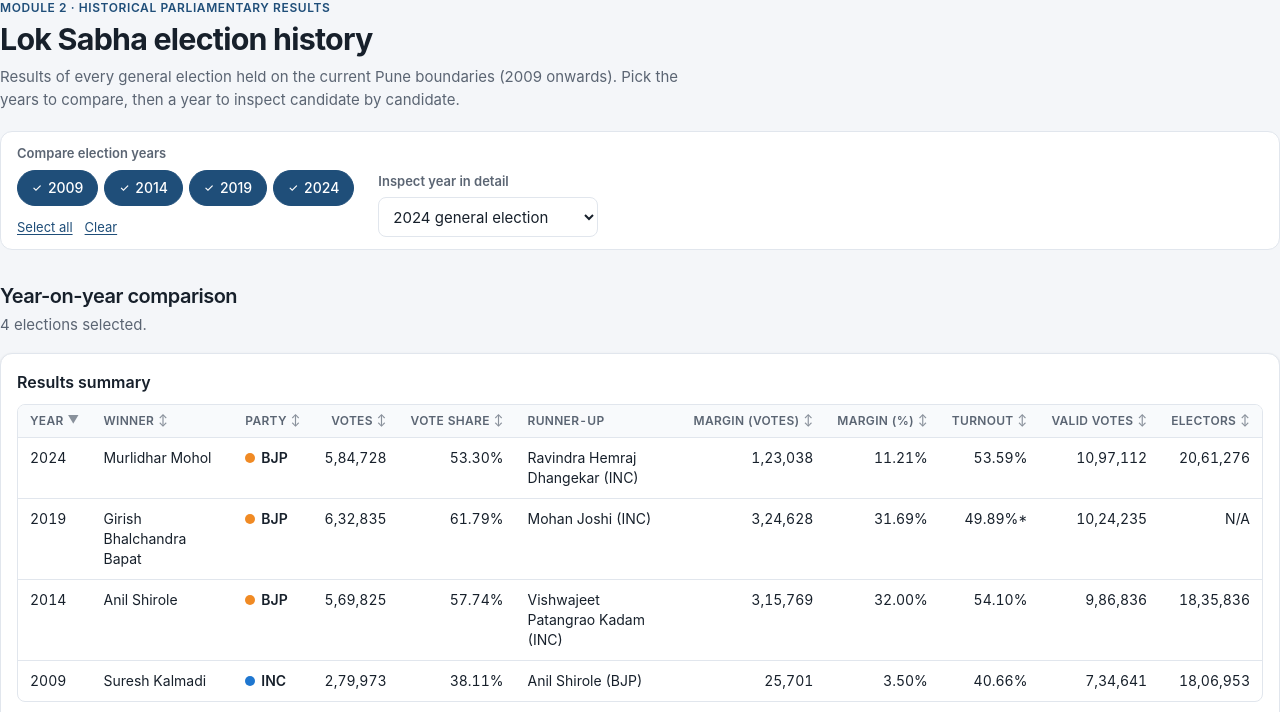
Scenario: Lok Sabha page (real data) › deselecting a year removes it from the comparison table
What coordinates should you click on to do the following:
click the checkbox labelled "2009"
I would click on:
 (58, 188)
Its box is [17,170,98,206].
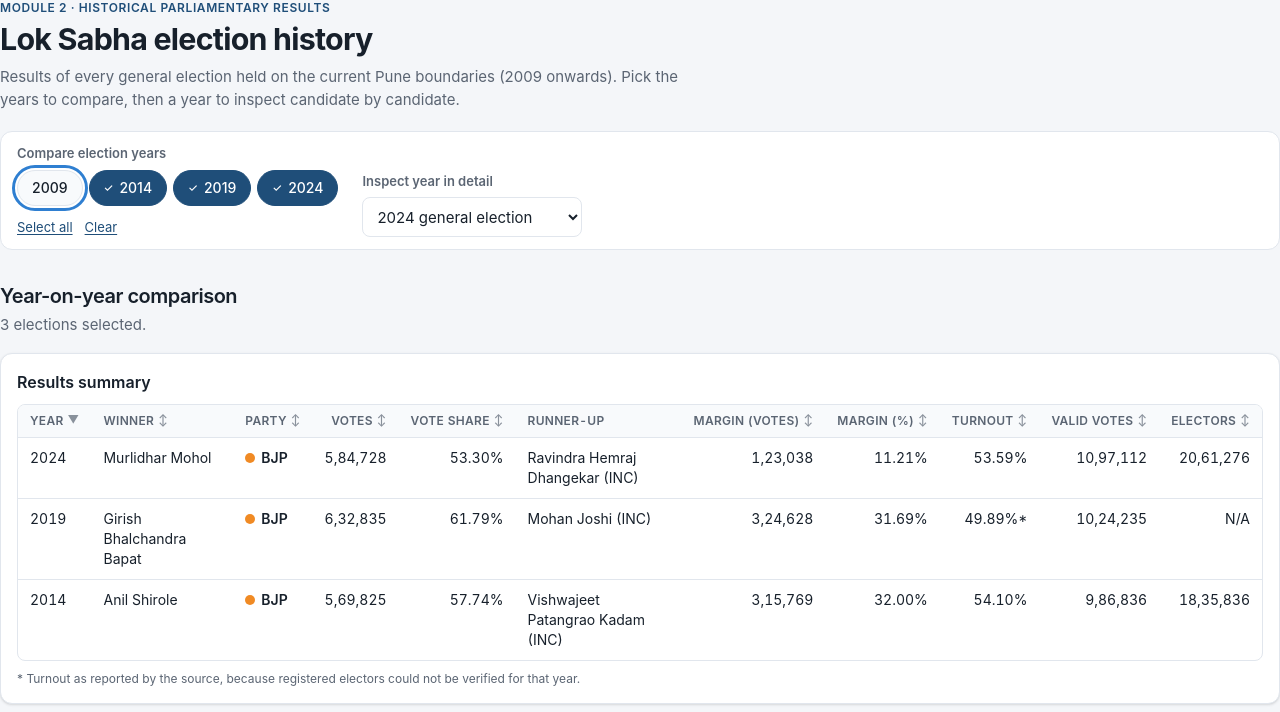
Expected: the text "Suresh Kalmadi" is gone
